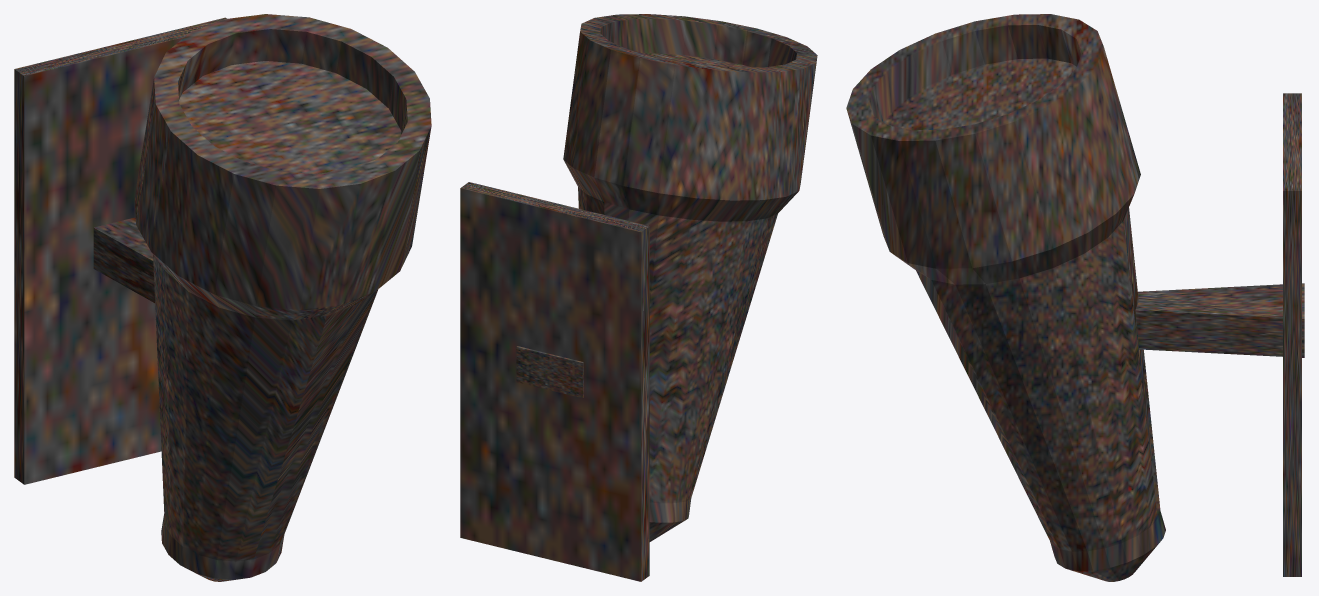
The model's file is torch.fbx.
3 views of the same model, side by side, from view 1: azimuth 30°, elevation 25°; view 2: azimuth 150°, elevation 25°; view 3: azimuth 270°, elevation 25° (orthographic). The views are drawn at different scales.
Parts seen in each view (by area): view 1: pCube3; view 2: pCube3; view 3: pCube3.
Part boxes in pixels (box(x1,y1,x2,y2)): pCube3: box(14, 14, 431, 581); pCube3: box(460, 14, 817, 581); pCube3: box(846, 14, 1304, 581).
Bounding box in the file's own units: 1.54 × 3.38 × 2.65.
Materials: 1 (1 with a texture image).
